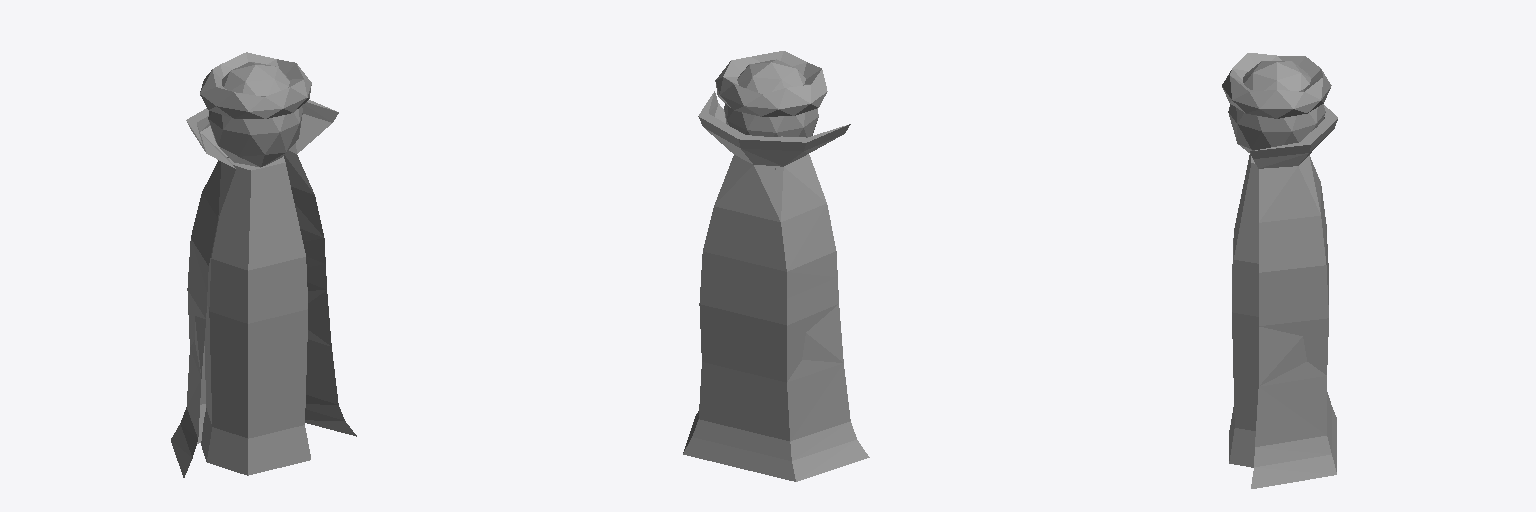
Rendered from queen.obj.
3 renders of one model, left to right at view 1: azimuth 30°, elevation 25°; view 2: azimuth 150°, elevation 25°; view 3: azimuth 270°, elevation 25°, orthographic.
Visible parts, largest first — view 1: Cube_Cube_Material, cape_Cube.002_Material, Icosphere_Icosphere_Material.001, hat2_Icosphere.002_Material.001; view 2: cape_Cube.002_Material, hat2_Icosphere.002_Material.001, Icosphere_Icosphere_Material.001; view 3: cape_Cube.002_Material, Cube_Cube_Material, Icosphere_Icosphere_Material.001, hat2_Icosphere.002_Material.001.
Part boxes in pixels (x1,y1,x2,y2): Cube_Cube_Material: (201, 156, 310, 475); cape_Cube.002_Material: (171, 100, 356, 477); Icosphere_Icosphere_Material.001: (208, 62, 302, 167); hat2_Icosphere.002_Material.001: (200, 52, 311, 118); cape_Cube.002_Material: (683, 91, 869, 481); hat2_Icosphere.002_Material.001: (715, 51, 827, 116); Icosphere_Icosphere_Material.001: (724, 59, 818, 137); cape_Cube.002_Material: (1250, 104, 1337, 488); Cube_Cube_Material: (1229, 154, 1258, 467); Icosphere_Icosphere_Material.001: (1228, 61, 1325, 153); hat2_Icosphere.002_Material.001: (1222, 53, 1331, 118).
Size of the model in its own units: 1.54 by 3.28 by 0.8986.